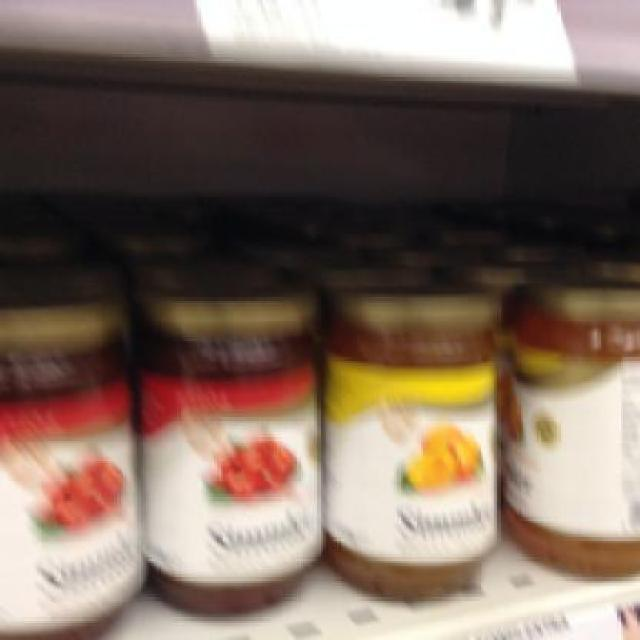Jam: (134, 282, 326, 615), (320, 280, 503, 600), (0, 292, 146, 634), (502, 282, 638, 578)
